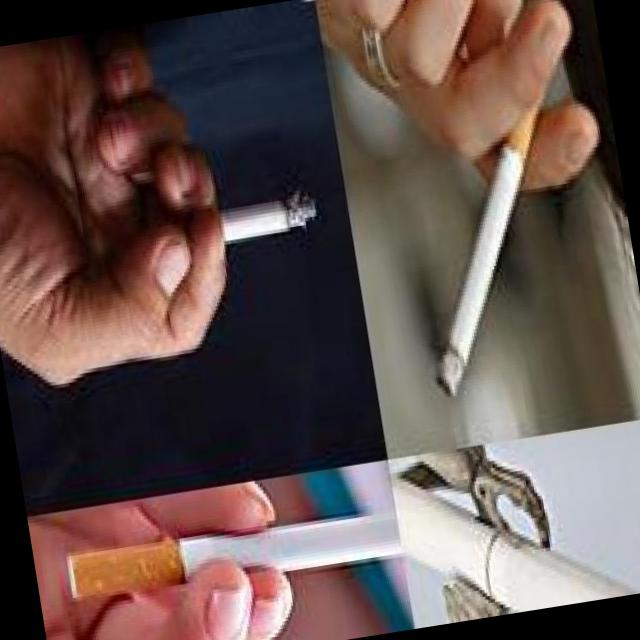smoke: (391, 420, 640, 628), (398, 150, 560, 418), (66, 504, 404, 612), (146, 187, 320, 254)
